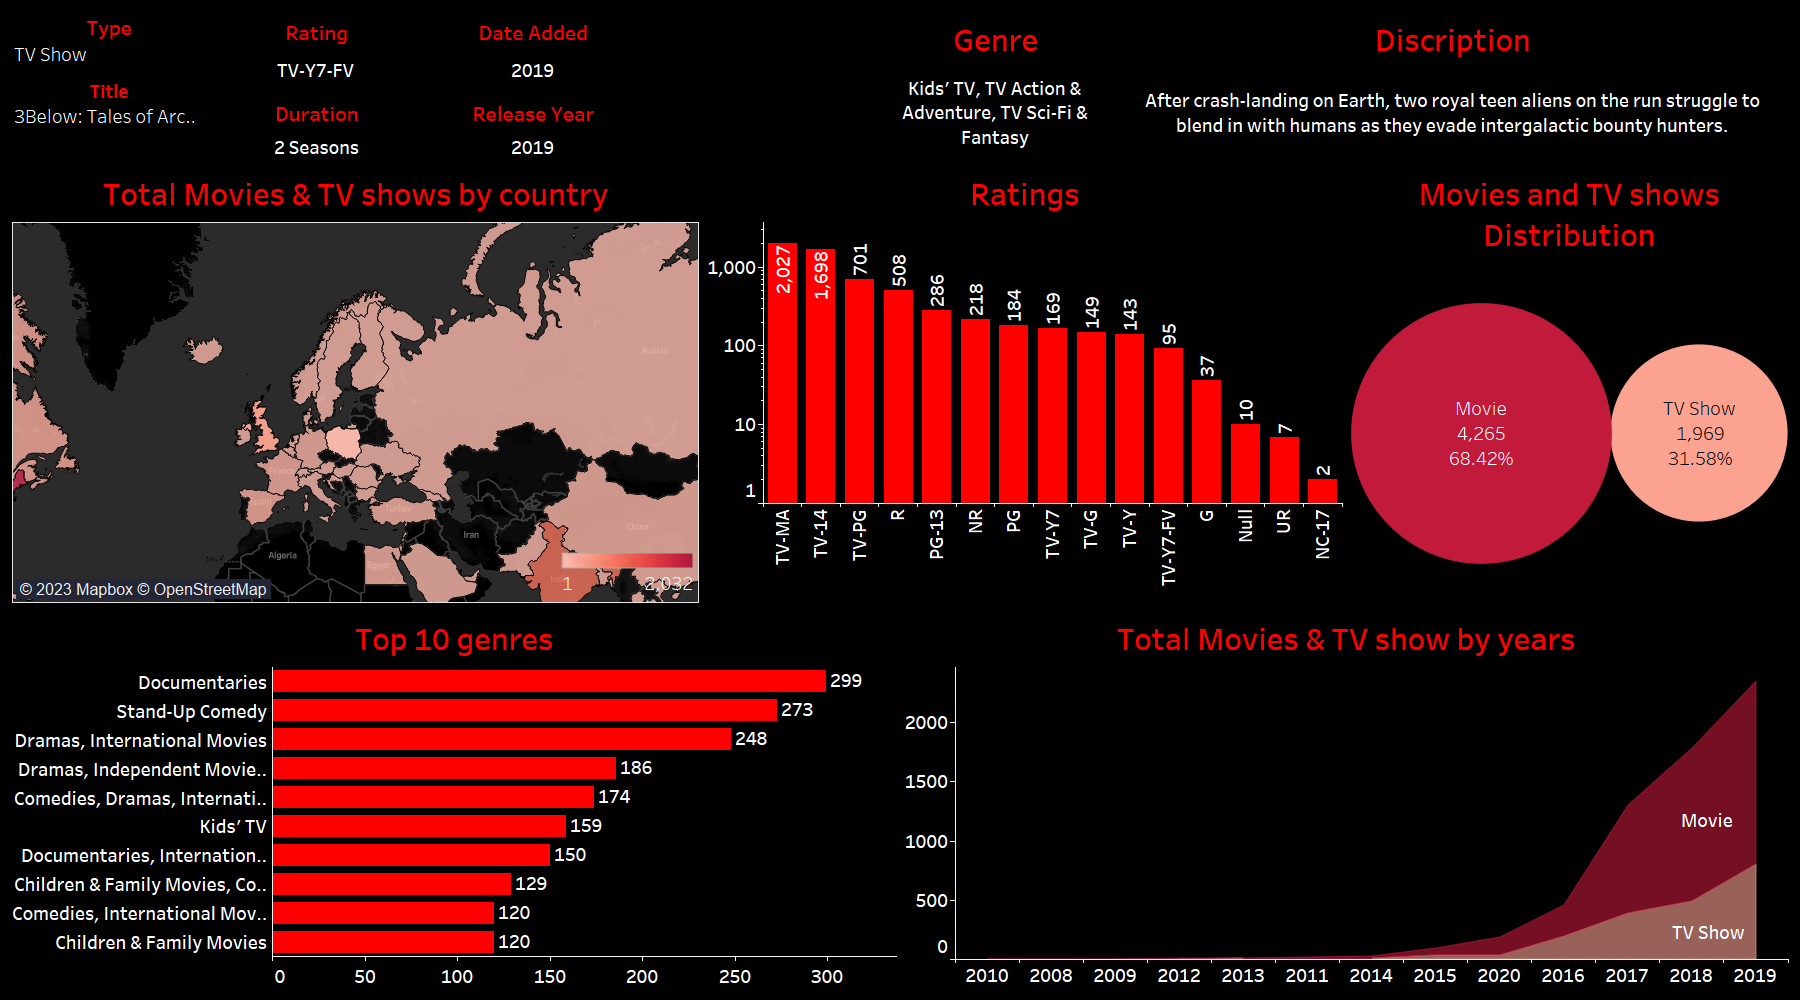

This screenshot's page, from the dashboard's own definition file:
{"tool":"tableau","page":{"name":"Dashboard 1","canvas":[1800,1000],"ordinal":0},"visuals":[{"type":"filter","title":"Discription","param":"[federated.099l5541fxnpk01bbvexx1gfokkd].[none:type:nk]","box":[8,8,201.7,65]},{"type":"worksheet","title":"Rating","mark":"Automatic","box":[209.7,8,213.3,81]},{"type":"worksheet","title":"Date Added","mark":"Automatic","box":[423,8,220,81]},{"type":"image","param":"C:/Users/harma/OneDrive/Desktop/Tableau Netflix Dashboard/netflix-logo.jpg","box":[643,8,235,154]},{"type":"worksheet","title":"Genre","mark":"Automatic","box":[878,8,235,154]},{"type":"worksheet","title":"Discription","mark":"Automatic","box":[1113,8,679,154]},{"type":"filter","title":"Discription","param":"[federated.099l5541fxnpk01bbvexx1gfokkd].[none:title:nk]","box":[8,73,201.7,89]},{"type":"worksheet","title":"Duration","mark":"Automatic","box":[209.7,89,213.3,73]},{"type":"worksheet","title":"Release Year","mark":"Automatic","box":[423,89,220,73]},{"type":"worksheet","title":"Total Movies and TV shows by country","mark":"Multipolygon","box":[8,162,695.4,445]},{"type":"worksheet","title":"Ratings","mark":"Automatic","rows":["show_id"],"cols":["rating"],"box":[703.3,162,642.6,445]},{"type":"worksheet","title":"Movies and TV shows Distribution","mark":"Circle","box":[1346,162,446,445]},{"type":"legend","title":"Total Movies and TV shows by country","param":"[federated.099l5541fxnpk01bbvexx1gfokkd].[ctd:show_id:qk]","box":[558,549,140,52]},{"type":"worksheet","title":"Top 10 genres","mark":"Automatic","rows":["listed_in"],"cols":["show_id"],"box":[8,607,892,385]},{"type":"worksheet","title":"Total movies & TV shows by year","mark":"Area","rows":["show_id"],"cols":["date_added"],"box":[900,607,892,385]}]}

Visuals, with their boxes in screenshot pixels (x1, y1, x2, y2), scaled from the page's 1800x1000 canvas onto the 1800x1000 screenshot:
"Discription" filter: pyautogui.locateOnScreen(8, 8, 210, 73)
"Rating" worksheet: pyautogui.locateOnScreen(210, 8, 423, 89)
"Date Added" worksheet: pyautogui.locateOnScreen(423, 8, 643, 89)
image: pyautogui.locateOnScreen(643, 8, 878, 162)
"Genre" worksheet: pyautogui.locateOnScreen(878, 8, 1113, 162)
"Discription" worksheet: pyautogui.locateOnScreen(1113, 8, 1792, 162)
"Discription" filter: pyautogui.locateOnScreen(8, 73, 210, 162)
"Duration" worksheet: pyautogui.locateOnScreen(210, 89, 423, 162)
"Release Year" worksheet: pyautogui.locateOnScreen(423, 89, 643, 162)
"Total Movies and TV shows by country" worksheet (Multipolygon marks): pyautogui.locateOnScreen(8, 162, 703, 607)
"Ratings" worksheet: pyautogui.locateOnScreen(703, 162, 1346, 607)
"Movies and TV shows Distribution" worksheet (Circle marks): pyautogui.locateOnScreen(1346, 162, 1792, 607)
"Total Movies and TV shows by country" legend: pyautogui.locateOnScreen(558, 549, 698, 601)
"Top 10 genres" worksheet: pyautogui.locateOnScreen(8, 607, 900, 992)
"Total movies & TV shows by year" worksheet (Area marks): pyautogui.locateOnScreen(900, 607, 1792, 992)
